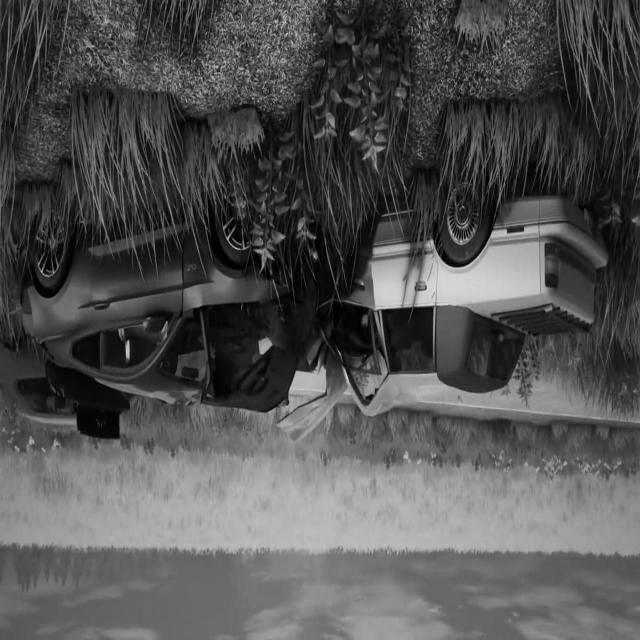moderate: (17, 157, 610, 451)
